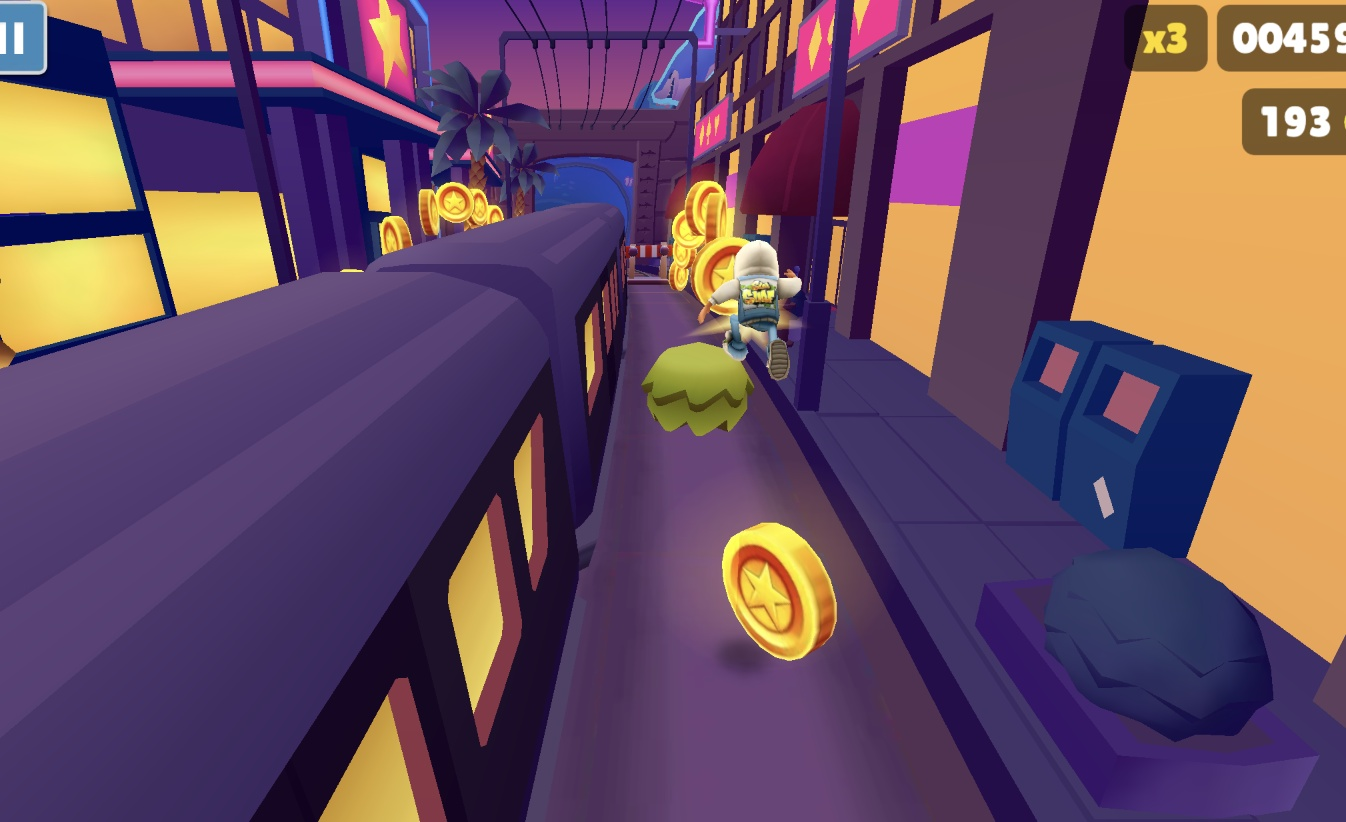bush: (641, 339, 756, 437)
ground_barrier: (624, 243, 668, 281)
train: (0, 202, 627, 822)
